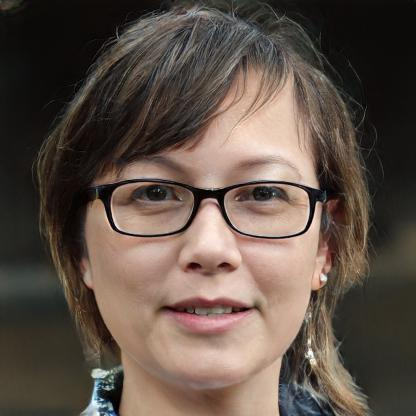glasses: (93, 173, 320, 245)
